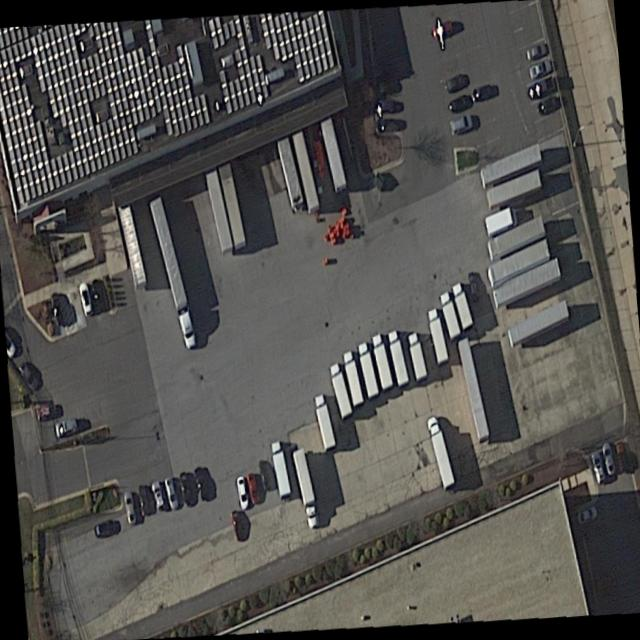large-vehicle: (146, 197, 195, 350), (291, 448, 317, 529), (425, 415, 453, 490), (327, 364, 351, 420), (425, 309, 447, 367), (268, 442, 290, 499), (355, 343, 377, 400), (369, 334, 391, 391), (386, 330, 408, 387), (340, 351, 362, 407), (312, 396, 334, 451), (405, 330, 427, 383), (437, 292, 460, 339), (450, 282, 471, 331), (483, 206, 516, 237)
small-vehicle: (525, 74, 554, 103), (15, 360, 39, 394), (75, 279, 93, 321), (161, 473, 179, 514), (120, 484, 136, 528), (445, 91, 471, 117), (526, 56, 552, 82), (599, 440, 616, 479), (192, 466, 208, 507), (149, 477, 165, 518), (51, 415, 77, 440), (47, 293, 65, 329), (588, 449, 605, 487), (447, 112, 473, 136), (176, 468, 192, 507), (429, 18, 453, 43), (92, 516, 116, 540), (443, 71, 468, 94), (534, 94, 556, 119), (233, 474, 248, 510), (135, 482, 150, 518), (524, 40, 547, 62), (575, 504, 596, 527), (229, 507, 243, 541), (470, 83, 492, 104), (245, 473, 259, 506), (613, 441, 626, 476), (257, 461, 270, 492), (375, 99, 395, 115), (375, 121, 395, 135)
